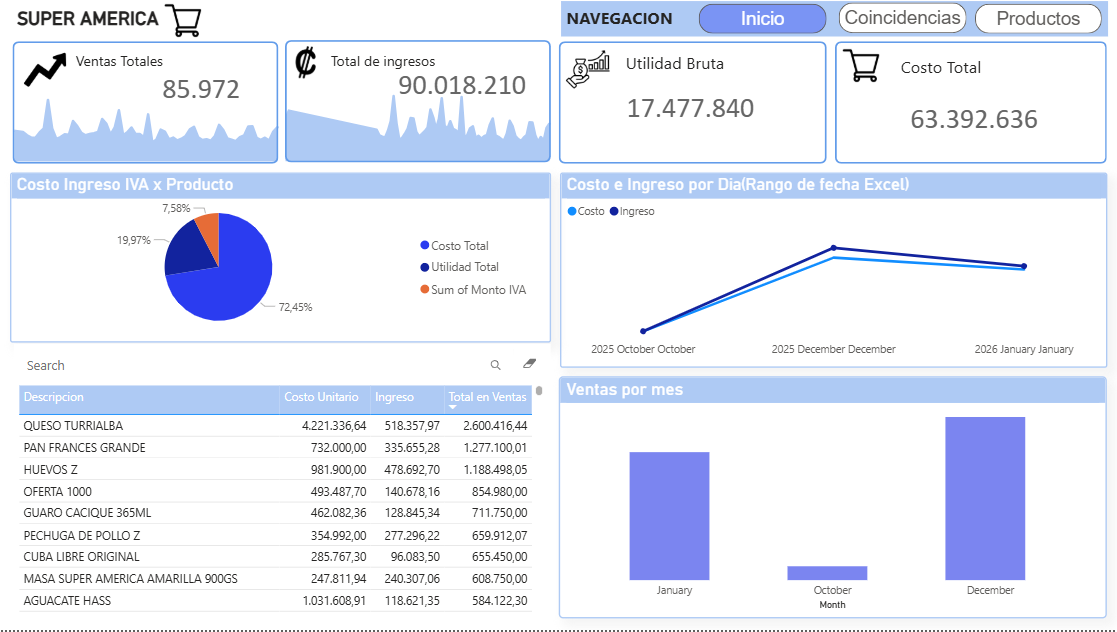

The dashboard page shown, as its layout file describes it:
{"tool":"powerbi","page":{"name":"Home","canvas":[1280,720],"ordinal":0},"visuals":[{"type":"lineChart","fields":{"Y":["Sum(VentasLimpias1.Total   )"],"Category":["VentasLimpias1.Fecha.Variation.Date Hierarchy.Year","VentasLimpias1.Fecha.Variation.Date Hierarchy.Month","VentasLimpias1.Fecha.Variation.Date Hierarchy.Day"]},"box":[321.8,91.4,321.6,99],"z":0},{"type":"lineChart","fields":{"Y":["Sum(VentasLimpias1.Cantidad   )"],"Category":["VentasLimpias1.Fecha.Variation.Date Hierarchy.Year","VentasLimpias1.Fecha.Variation.Date Hierarchy.Quarter","VentasLimpias1.Fecha.Variation.Date Hierarchy.Month","VentasLimpias1.Fecha.Variation.Date Hierarchy.Day"]},"box":[11.3,97.7,320.9,93.6],"z":1000},{"type":"shape","box":[14.3,46.7,303.8,140],"z":2000},{"type":"textbox","box":[80.9,53.1,111.2,33.8],"z":3000},{"type":"image","box":[23.4,54.3,57.5,51.2],"z":4000},{"type":"shape","box":[325.4,45.6,303.8,140],"z":5000},{"type":"card","fields":{"Values":["CountNonNull(VentasLimpias1.Cantidad   )"]},"box":[152.1,73.1,157.5,53.8],"z":6000},{"type":"textbox","box":[372.9,52.6,132.3,33.8],"z":7000},{"type":"image","box":[325.7,52.7,47.1,37.1],"z":8000},{"type":"card","fields":{"Values":["Sum(VentasLimpias1.Total   )"]},"box":[426.6,67.9,202.5,55],"z":9000},{"type":"shape","box":[639.2,46.9,306.2,140],"z":10000},{"type":"textbox","box":[709.6,54.1,125.7,38.6],"z":11000},{"type":"image","box":[633.9,52.7,75.7,52.9],"z":12000},{"type":"card","fields":{"Values":["VentasLimpias1.Utilidad Total"]},"box":[633.9,72.7,310,97.1],"z":13000},{"type":"shape","box":[953.8,47.7,310.8,140],"z":14000},{"type":"textbox","box":[1024.6,58.1,158.8,47.5],"z":15000},{"type":"image","box":[960.3,54.5,47.6,41.8],"z":16000},{"type":"card","fields":{"Values":["VentasLimpias1.Costo Total"]},"box":[960.9,81.3,304.3,105.7],"z":17000},{"type":"pieChart","title":"Costo Ingreso IVA x Producto","fields":{"Y":["VentasLimpias1.Costo Total","VentasLimpias1.Utilidad Total","Sum(VentasLimpias1.Monto IVA   )"]},"box":[11.4,197.1,618.6,194.3],"z":18000},{"type":"lineChart","title":"Costo e Ingreso por Dia(Rango de fecha Excel)","fields":{"Y":["Sum(VentasLimpias1.Costo_Unitario_Venta)","VentasLimpias1.Costo Total"],"Category":["VentasLimpias1.Fecha.Variation.Date Hierarchy.Year","VentasLimpias1.Fecha.Variation.Date Hierarchy.Month","VentasLimpias1.Fecha.Variation.Date Hierarchy.Month"]},"box":[640,196.9,625.4,223.1],"z":19000},{"type":"columnChart","title":"Ventas por mes","fields":{"Category":["VentasLimpias1.Fecha.Variation.Date Hierarchy.Month","VentasLimpias1.Fecha.Variation.Date Hierarchy.Day"],"Y":["Sum(VentasLimpias1.Total   )"]},"box":[639.1,429.9,626.2,277],"z":20000},{"type":"textbox","box":[641,1,625,40],"z":21000},{"type":"textFilter25A4896A83E0487089E2B90C9AE57C8A","fields":{"field":["VentasLimpias1.Descripcion"]},"box":[16.2,392.5,613.8,45],"z":22000},{"type":"tableEx","fields":{"Values":["VentasLimpias1.Descripcion","Sum(VentasLimpias1.Costo_Unitario_Venta)","VentasLimpias1.Utilidad Total","Sum(VentasLimpias1.Total   )"]},"box":[15.7,435.7,610,270],"z":23000},{"type":"actionButton","title":"Coincidencias","box":[959,3,146,35],"z":24000},{"type":"actionButton","title":"Coincidencias","box":[799,4,146,34],"z":25000},{"type":"actionButton","title":"Coincidencias","box":[1114,4,145,34],"z":26000},{"type":"textbox","box":[13.8,3.8,611.2,41.2],"z":27000},{"type":"image","box":[171.2,2.5,75,41.2],"z":28000}]}

Visuals, with their boxes in screenshot pixels (x1, y1, x2, y2), scaled from the page's 1280x720 canvas onto the 1117x632 screenshot:
lineChart - Sum(VentasLimpias1.Total   ) x VentasLimpias1.Fecha.Variation.Date Hierarchy.Year: <region>281, 80, 561, 167</region>
lineChart - Sum(VentasLimpias1.Cantidad   ) x VentasLimpias1.Fecha.Variation.Date Hierarchy.Year: <region>10, 86, 290, 168</region>
shape: <region>12, 41, 278, 164</region>
textbox: <region>71, 47, 168, 76</region>
image: <region>20, 48, 71, 93</region>
shape: <region>284, 40, 549, 163</region>
card - CountNonNull(VentasLimpias1.Cantidad   ): <region>133, 64, 270, 111</region>
textbox: <region>325, 46, 441, 76</region>
image: <region>284, 46, 325, 79</region>
card - Sum(VentasLimpias1.Total   ): <region>372, 60, 549, 108</region>
shape: <region>558, 41, 825, 164</region>
textbox: <region>619, 47, 729, 81</region>
image: <region>553, 46, 619, 93</region>
card - VentasLimpias1.Utilidad Total: <region>553, 64, 824, 149</region>
shape: <region>832, 42, 1104, 165</region>
textbox: <region>894, 51, 1033, 93</region>
image: <region>838, 48, 880, 85</region>
card - VentasLimpias1.Costo Total: <region>839, 71, 1104, 164</region>
"Costo Ingreso IVA x Producto" pieChart: <region>10, 173, 550, 344</region>
"Costo e Ingreso por Dia(Rango de fecha Excel)" lineChart: <region>558, 173, 1104, 369</region>
"Ventas por mes" columnChart: <region>558, 377, 1104, 621</region>
textbox: <region>559, 1, 1105, 36</region>
textFilter25A4896A83E0487089E2B90C9AE57C8A - VentasLimpias1.Descripcion: <region>14, 345, 550, 384</region>
tableEx - VentasLimpias1.Descripcion x Sum(VentasLimpias1.Costo_Unitario_Venta): <region>14, 382, 546, 619</region>
"Coincidencias" actionButton: <region>837, 3, 964, 33</region>
"Coincidencias" actionButton: <region>697, 4, 825, 33</region>
"Coincidencias" actionButton: <region>972, 4, 1099, 33</region>
textbox: <region>12, 3, 545, 40</region>
image: <region>149, 2, 215, 38</region>
